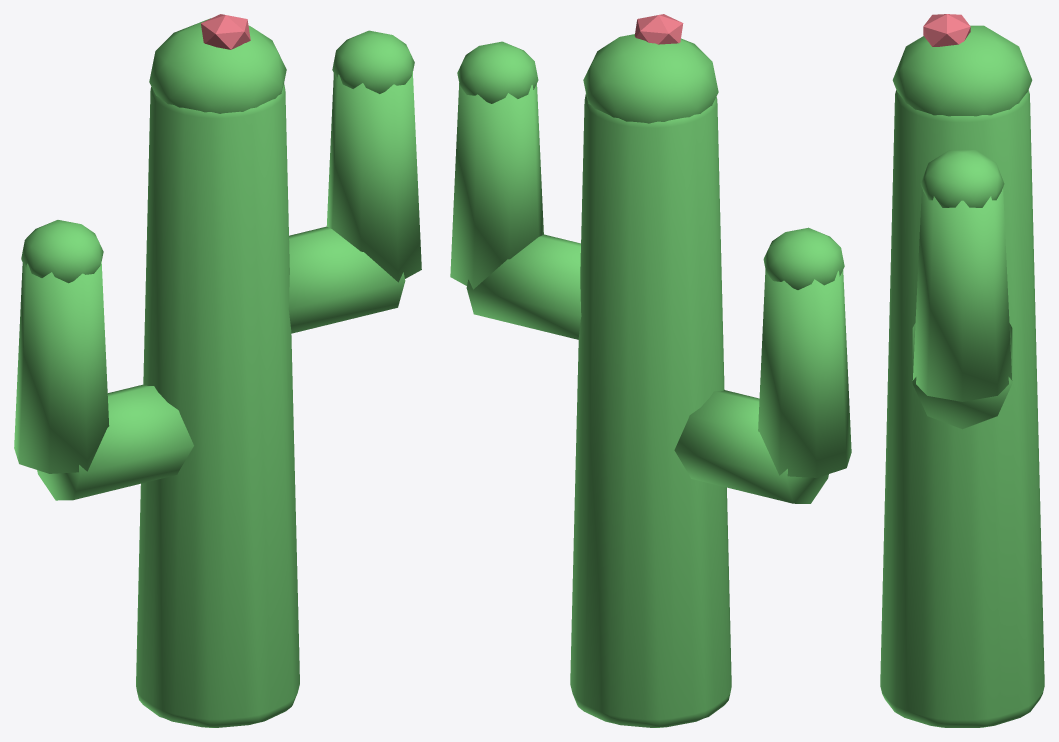
The model's file is Cactus.fbx.
3 renders of one model, left to right at view 1: azimuth 30°, elevation 25°; view 2: azimuth 150°, elevation 25°; view 3: azimuth 270°, elevation 25°, orthographic.
Parts seen in each view (by area): view 1: Leaves, Band; view 2: Leaves, Band; view 3: Leaves, Band.
Boxes of the visible parts, <box> form: Leaves: <box>14,18,421,727</box>; Band: <box>201,14,250,49</box>; Leaves: <box>450,34,851,727</box>; Band: <box>634,14,683,44</box>; Leaves: <box>880,25,1044,727</box>; Band: <box>923,14,970,46</box>.
Bounding box in the file's own units: 2.94 × 4.87 × 1.06.
